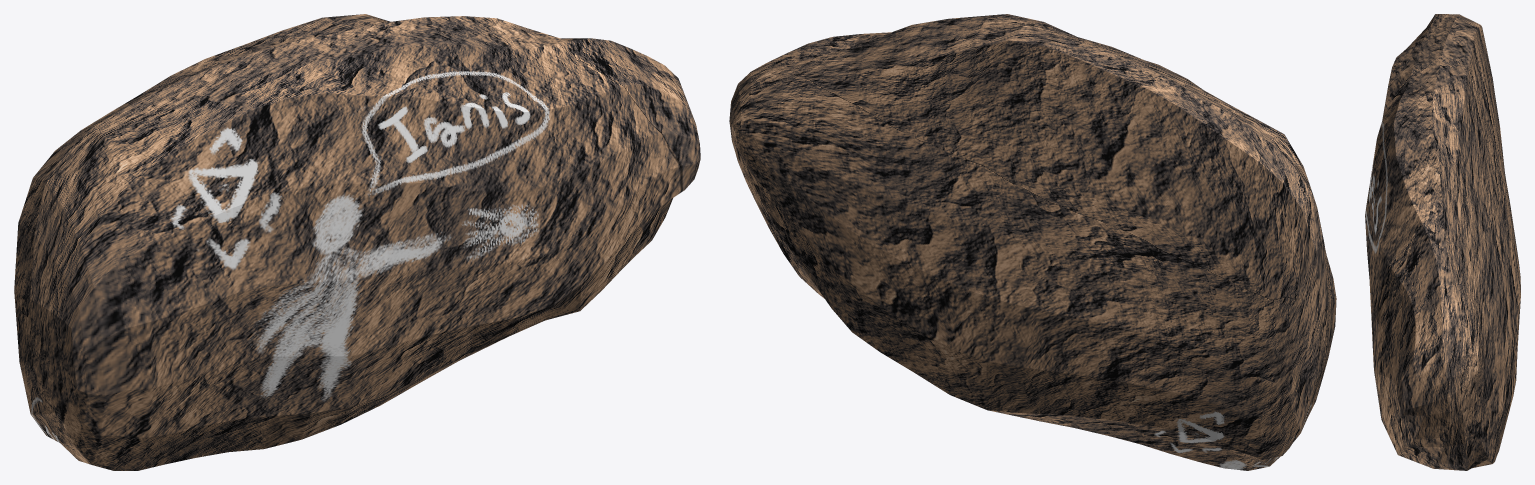
Rendered from InstructionTablet.fbx.
The picture shows the model from 3 angles, left to right: view 1: azimuth 30°, elevation 25°; view 2: azimuth 150°, elevation 25°; view 3: azimuth 270°, elevation 25°; orthographic projection. The views are drawn at different scales.
Visible parts, largest first — view 1: Spell_Instructions; view 2: Spell_Instructions; view 3: Spell_Instructions.
Part boxes in pixels (x1,y1,x2,y2): Spell_Instructions: [14, 14, 700, 470]; Spell_Instructions: [729, 14, 1336, 470]; Spell_Instructions: [1365, 14, 1520, 470].
Size of the model in its own units: 867 by 518 by 201.
1 material, 1 textured.
